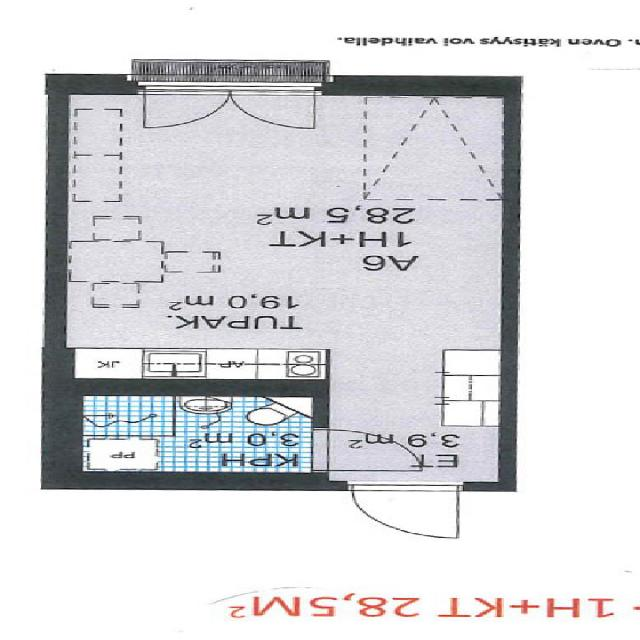door: (352, 482, 457, 538), (312, 430, 423, 472), (145, 81, 230, 131), (230, 81, 314, 131)
